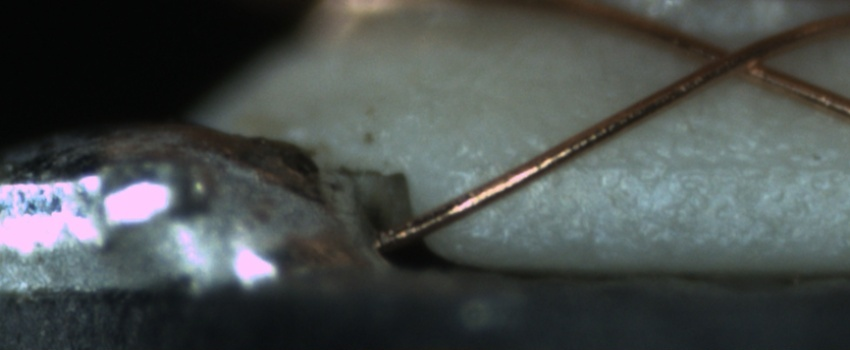CL: (690, 30, 783, 85)
DL: (557, 130, 850, 194)
